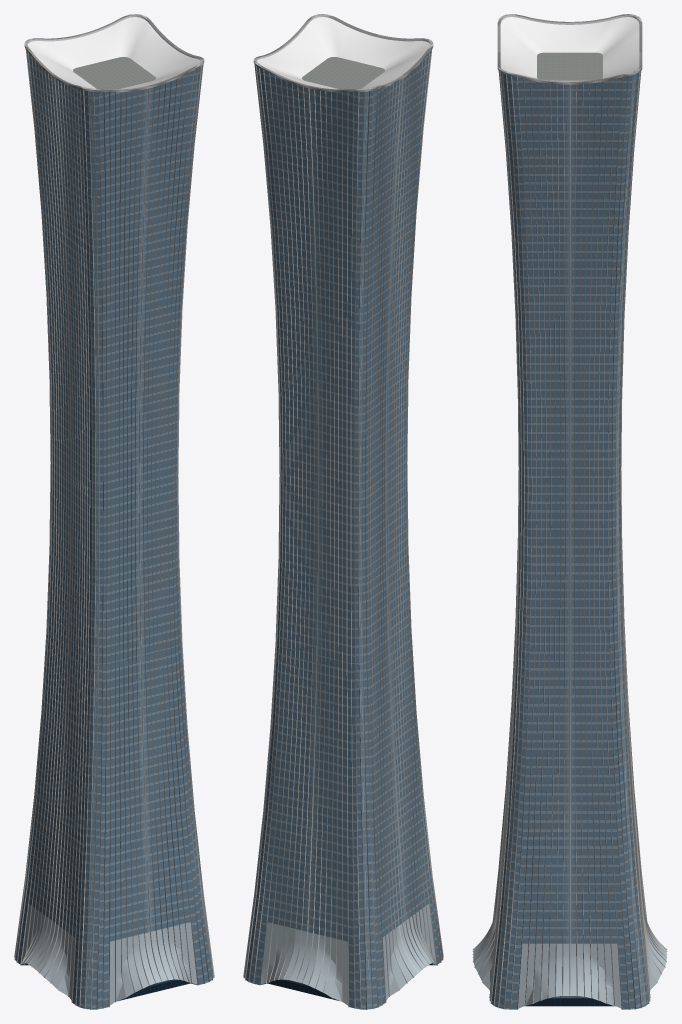
File: citic.glb
The picture shows the model from 3 angles, left to right: view 1: azimuth 30°, elevation 25°; view 2: azimuth 150°, elevation 25°; view 3: azimuth 270°, elevation 25°; orthographic projection.
Size of the model in its own units: 100 by 528 by 100.
Materials: 10 (6 with a texture image).
